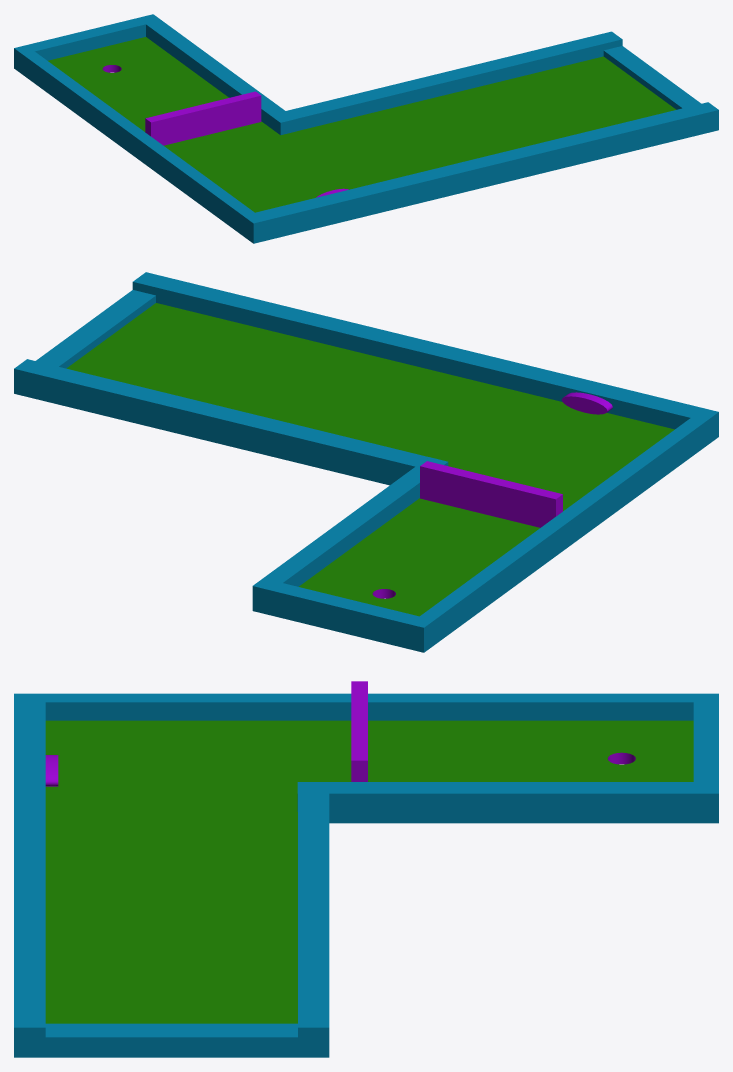
File: Level7.fbx
3 views of the same model, one above another, from view 1: azimuth 30°, elevation 25°; view 2: azimuth 150°, elevation 25°; view 3: azimuth 270°, elevation 25° (orthographic). The views are drawn at different scales.
Visible parts, largest first — view 1: Golf___Tutorial_Level:Golf___Tutorial_Level:pCube4, Golf___Tutorial_Level:pCube5; view 2: Golf___Tutorial_Level:Golf___Tutorial_Level:pCube4, Golf___Tutorial_Level:pCube5, Golf___Tutorial_Level:pCylinder5; view 3: Golf___Tutorial_Level:Golf___Tutorial_Level:pCube4, Golf___Tutorial_Level:pCube5.
Boxes of the visible parts, x1,y1,x2,y2 form: Golf___Tutorial_Level:Golf___Tutorial_Level:pCube4: (14,14,718,243); Golf___Tutorial_Level:pCube5: (145,91,261,145); Golf___Tutorial_Level:Golf___Tutorial_Level:pCube4: (14,272,718,652); Golf___Tutorial_Level:pCube5: (420,461,562,527); Golf___Tutorial_Level:pCylinder5: (562,392,612,414); Golf___Tutorial_Level:Golf___Tutorial_Level:pCube4: (14,693,718,1057); Golf___Tutorial_Level:pCube5: (351,681,367,781).
Bounding box in the file's own units: 10.03 × 0.709 × 8.94.
Materials: 2 (2 with a texture image).
